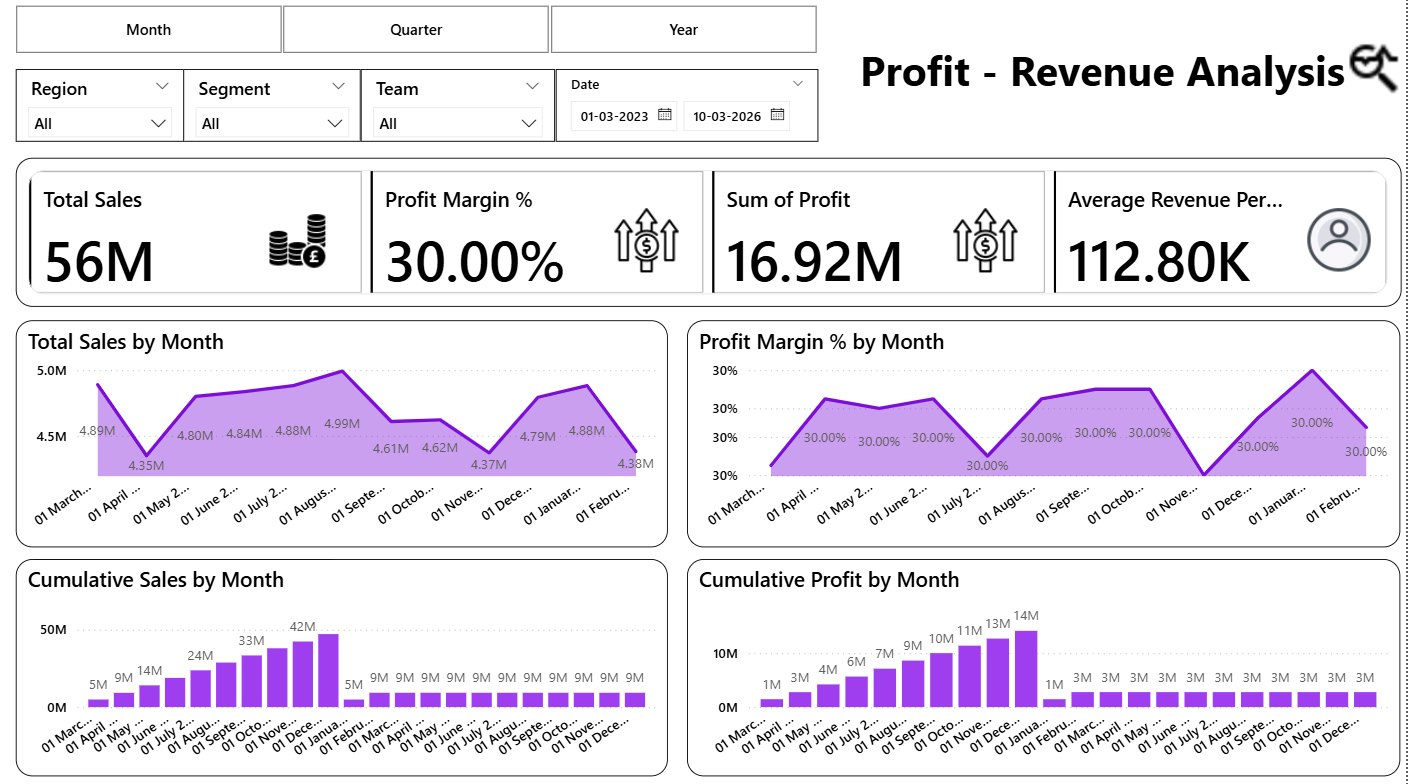

This screenshot's page, from the dashboard's own definition file:
{"tool":"powerbi","page":{"name":"Profit & Revenue Analysis","canvas":[1280,720],"ordinal":5},"visuals":[{"type":"slicer","fields":{"Values":["Calender.Date"]},"box":[43,513.7,269,69.9],"z":0},{"type":"slicer","fields":{"Values":["SalesData.Region"]},"box":[25.6,72.6,152,65.9],"z":1000},{"type":"slicer","fields":{"Values":["SalesData.Segment"]},"box":[177.5,72.6,160,65.9],"z":2000},{"type":"slicer","fields":{"Values":["SalesData.Team"]},"box":[337.6,72.6,174.8,65.9],"z":3000},{"type":"actionButton","box":[646.9,20.2,633.4,103.6],"z":4000},{"type":"cardVisual","fields":{"Data":["_All Measures.Total Sales","_All Measures.Profit Margin %","Sum(SalesData.Profit)","_All Measures.Average Revenue Per Customer"]},"box":[25.6,152,1249.3,134.5],"z":5000},{"type":"stackedAreaChart","fields":{"Category":["Calender.Start of Month","Calender.Quarter","Calender.Year"],"Y":["_All Measures.Total Sales"]},"box":[25.6,298.6,587.7,204.4],"z":6000},{"type":"stackedAreaChart","fields":{"Category":["Calender.Start of Month","Calender.Quarter","Calender.Year"],"Y":["_All Measures.Profit Margin %"]},"box":[630.7,298.6,642.8,204.4],"z":7000},{"type":"slicer","fields":{"Values":["Parameter.Parameter"]},"box":[0,8.1,771.9,56.5],"z":8000},{"type":"clusteredColumnChart","fields":{"Category":["Calender.Start of Month","Calender.Quarter","Calender.Year"],"Y":["_All Measures.Cumulative Sales"]},"box":[25.6,513.7,587.7,196.3],"z":9000},{"type":"clusteredColumnChart","fields":{"Category":["Calender.Start of Month","Calender.Quarter","Calender.Year"],"Y":["_All Measures.Cumulative Profit"]},"box":[630.7,513.7,642.8,196.3],"z":10000},{"type":"slicer","fields":{"Values":["Calender.Date"]},"box":[512.4,72.6,236.7,65.9],"z":11000}]}

Visuals, with their boxes in screenshot pixels (x1, y1, x2, y2), scaled from the page's 1280x720 canvas onto the 1409x784 screenshot:
slicer - Calender.Date: bbox=(47, 559, 343, 635)
slicer - SalesData.Region: bbox=(28, 79, 195, 151)
slicer - SalesData.Segment: bbox=(195, 79, 372, 151)
slicer - SalesData.Team: bbox=(372, 79, 564, 151)
actionButton: bbox=(712, 22, 1408, 135)
cardVisual - _All Measures.Total Sales x _All Measures.Profit Margin %: bbox=(28, 166, 1403, 312)
stackedAreaChart - Calender.Start of Month x Calender.Quarter: bbox=(28, 325, 675, 548)
stackedAreaChart - Calender.Start of Month x Calender.Quarter: bbox=(694, 325, 1402, 548)
slicer - Parameter.Parameter: bbox=(0, 9, 850, 70)
clusteredColumnChart - Calender.Start of Month x Calender.Quarter: bbox=(28, 559, 675, 773)
clusteredColumnChart - Calender.Start of Month x Calender.Quarter: bbox=(694, 559, 1402, 773)
slicer - Calender.Date: bbox=(564, 79, 825, 151)
